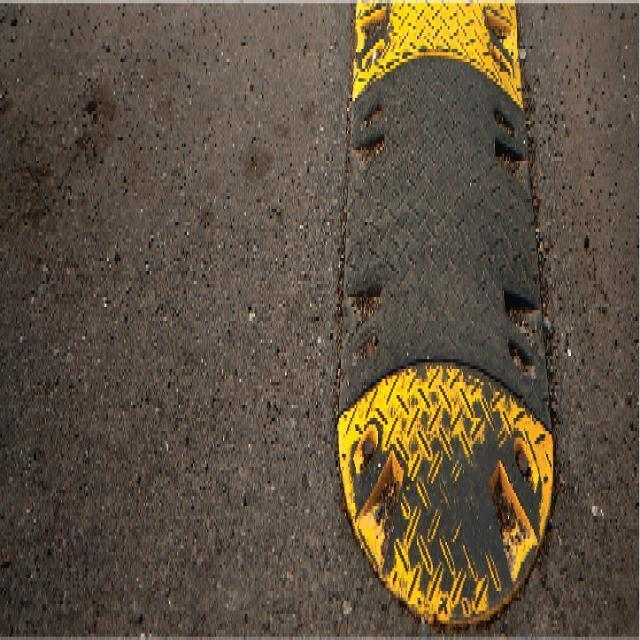Marked Bump: (328, 15, 564, 608)
